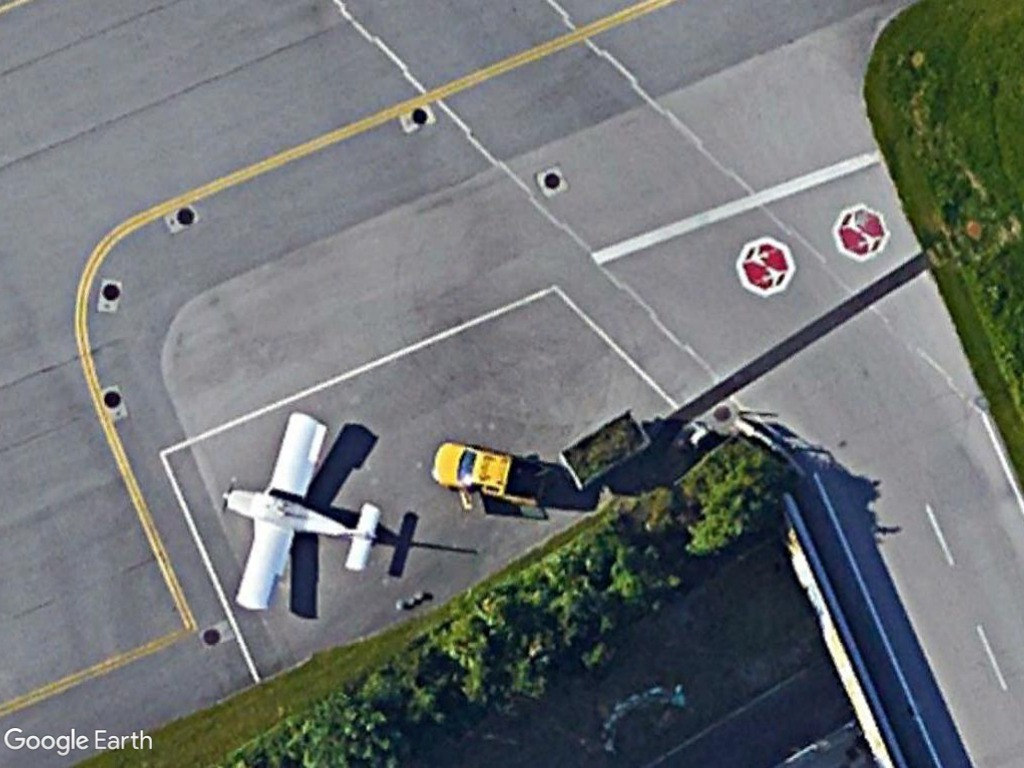trainer: (212, 405, 387, 617)
